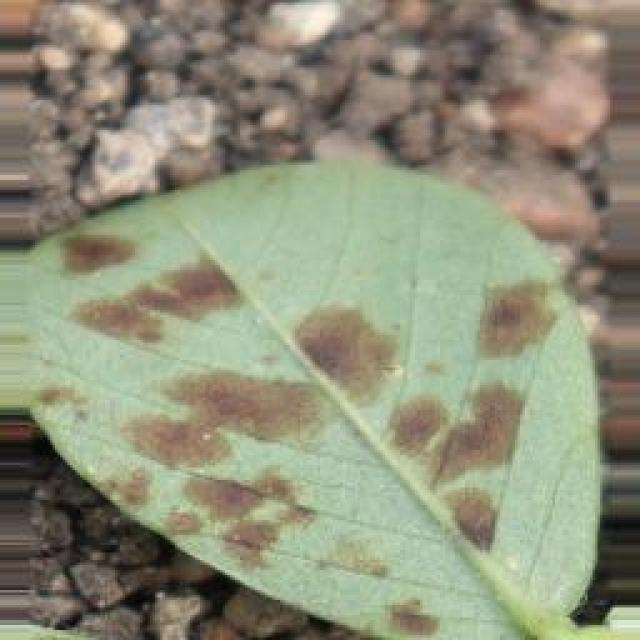Whitefly: (22, 130, 632, 640)
